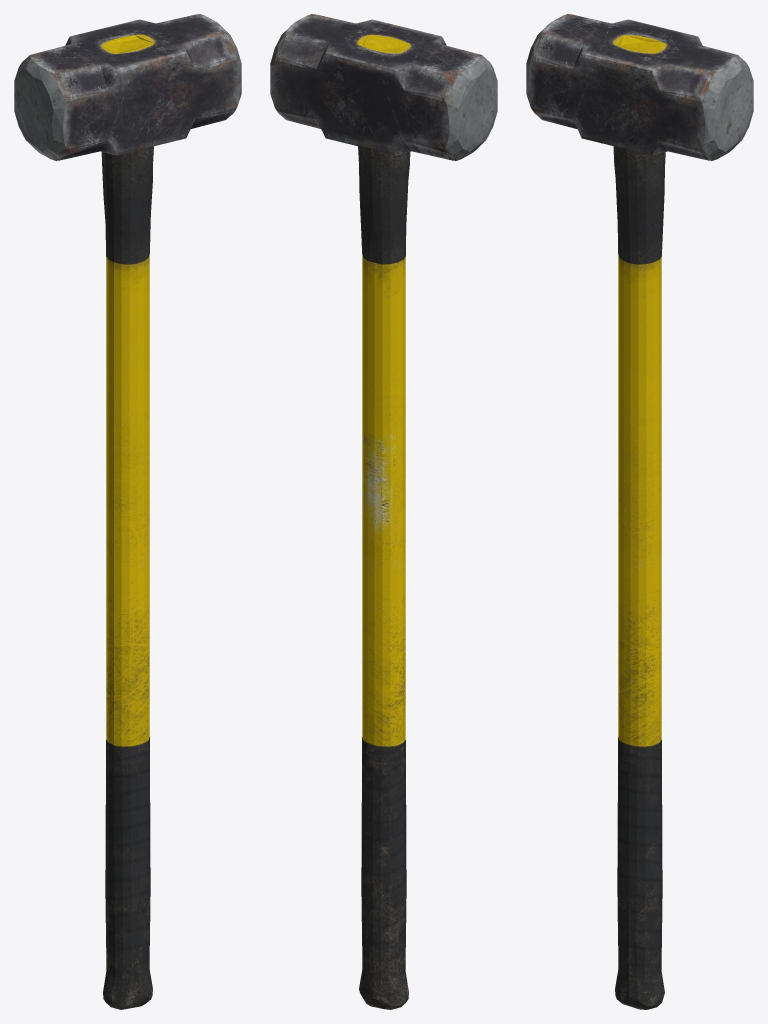
The model's file is Sledgehammer_LOD1.obj.
The picture shows the model from 3 angles, left to right: view 1: azimuth 30°, elevation 25°; view 2: azimuth 150°, elevation 25°; view 3: azimuth 330°, elevation 25°; orthographic projection.
Visible parts, largest first — view 1: Cube_008; view 2: Cube_008; view 3: Cube_008.
Part boxes in pixels (<box>): Cube_008: <box>14,14,241,1009</box>; Cube_008: <box>270,14,497,1009</box>; Cube_008: <box>526,14,753,1009</box>.
Size of the model in its own units: 0.2084 by 1.01 by 0.0904.
Materials: 1 (1 with a texture image).
